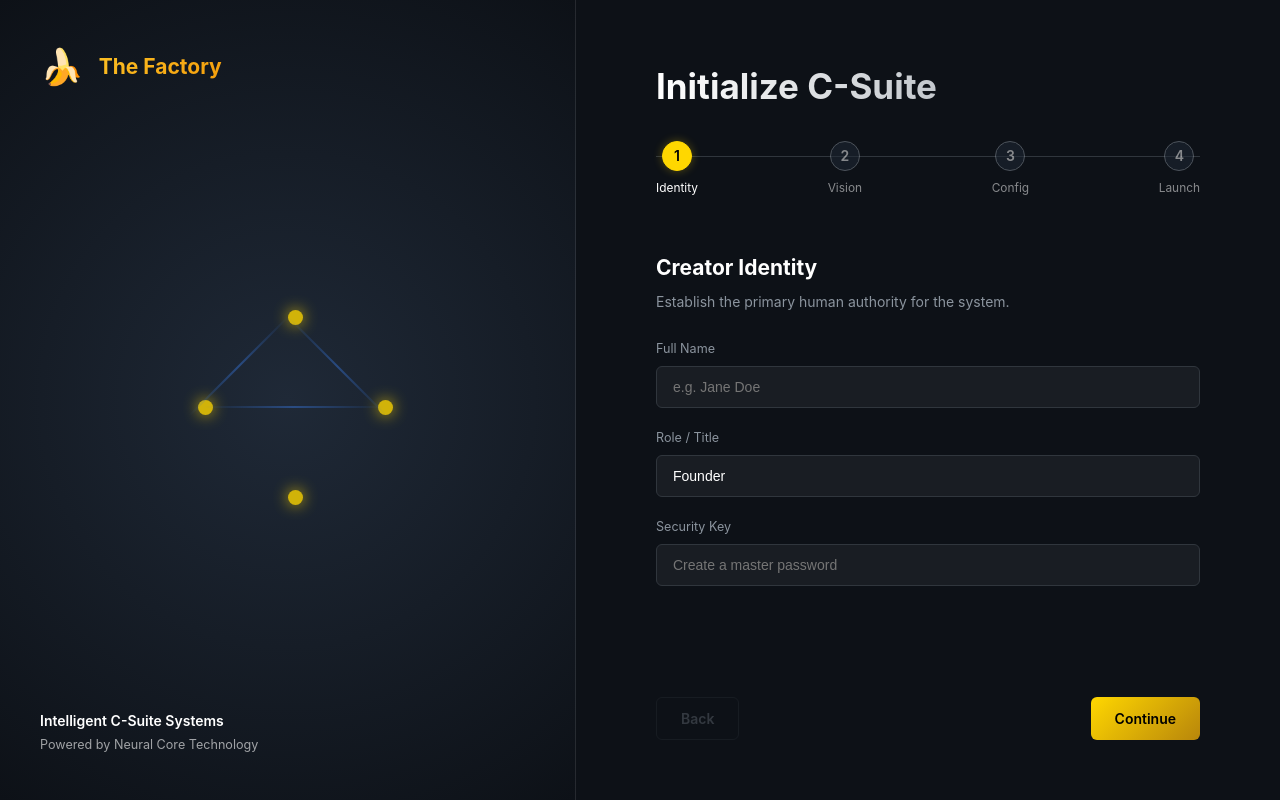
it: Onboarding Page › navigation to step 2 works when validation passes
Type "John Doe" into the field with placeholder "e.g. Jane Doe" at (928, 387), box [656,366,1200,408]
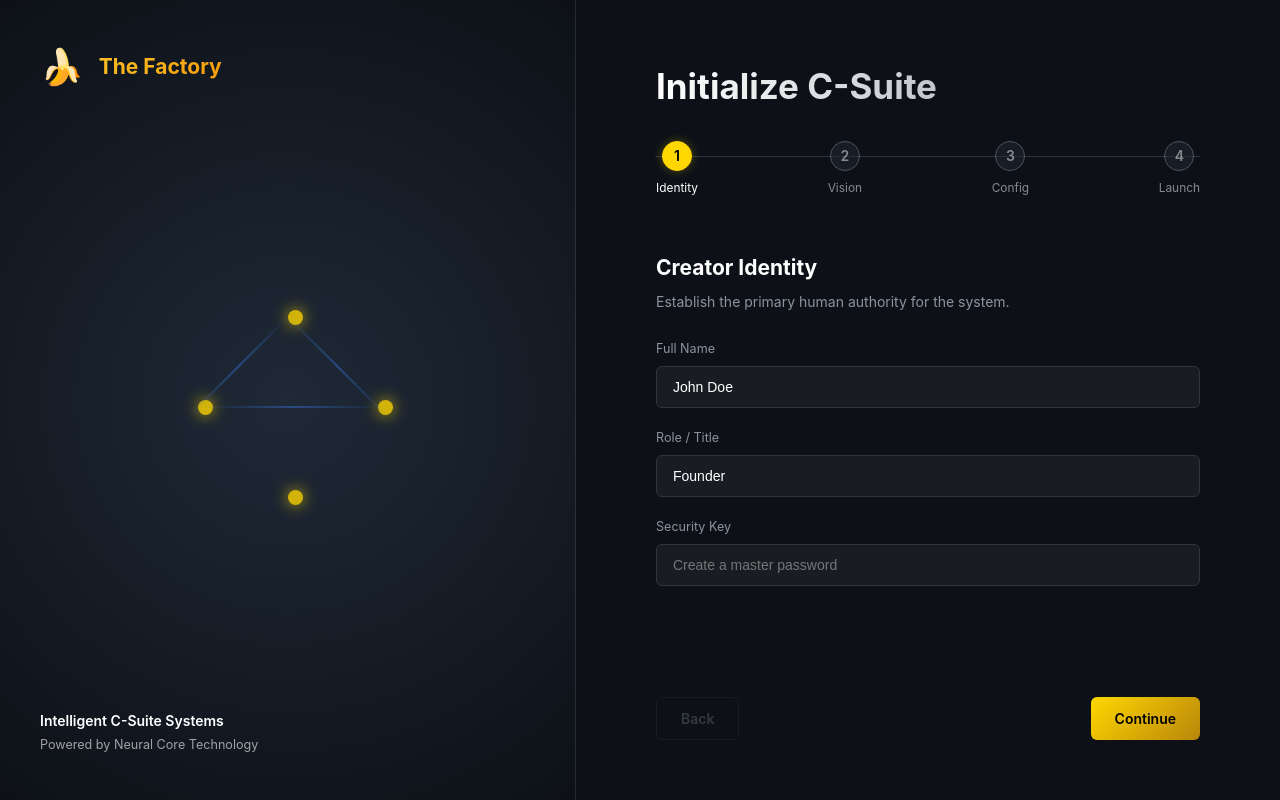
Click the button "Continue" at (1145, 718), box [1091,697,1200,740]
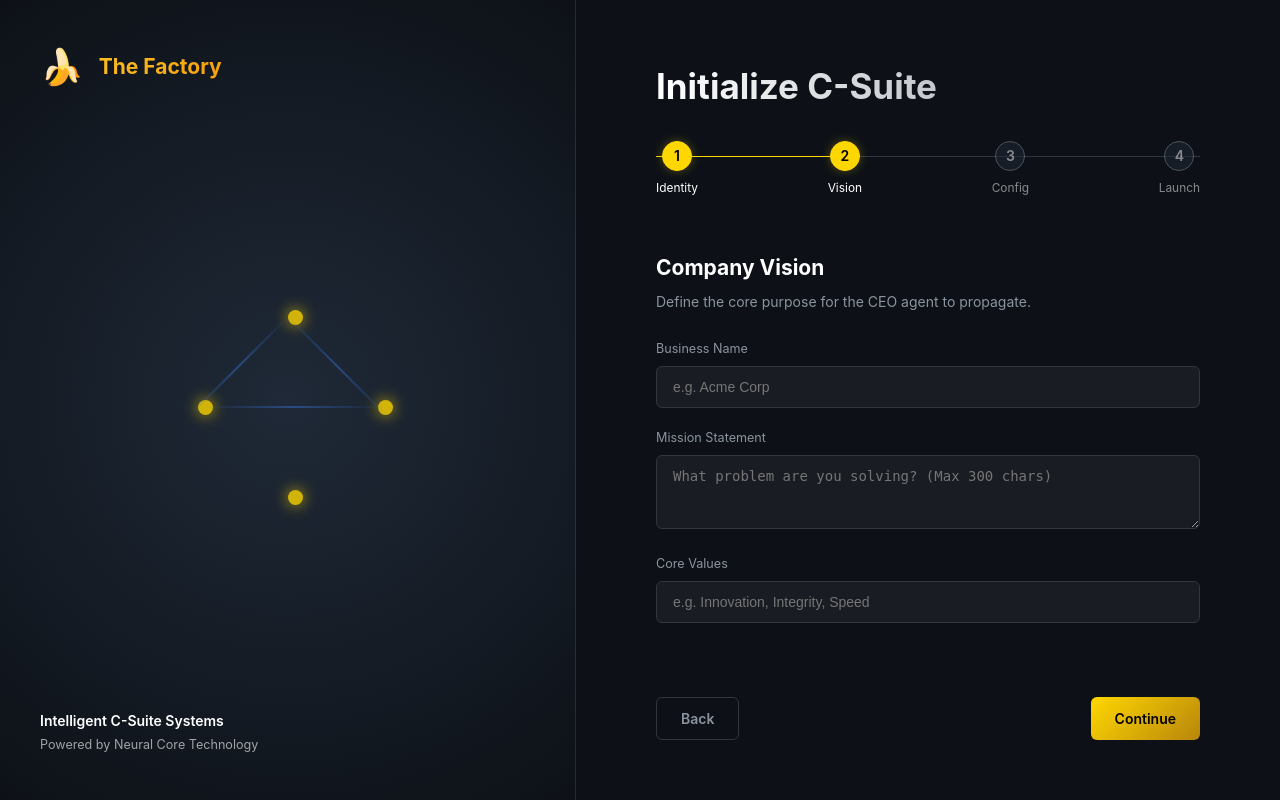
Check: the heading "Company Vision" is shown, box [656,255,824,280]
